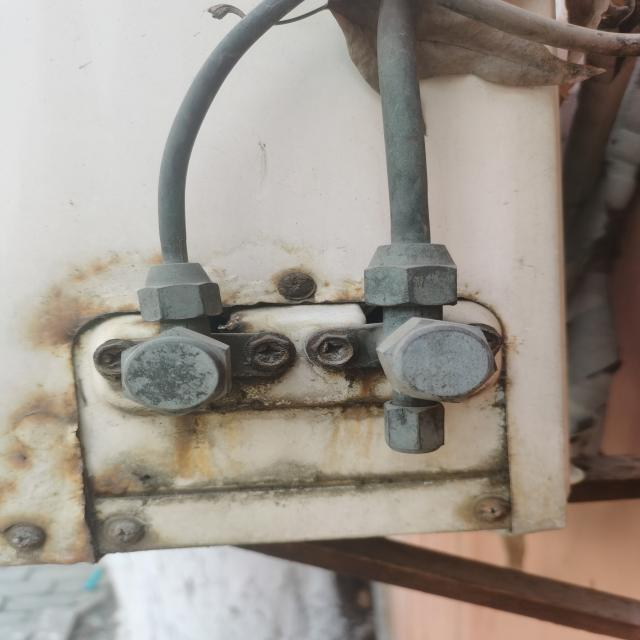bolt head: (372, 314, 503, 407), (115, 326, 238, 421)
